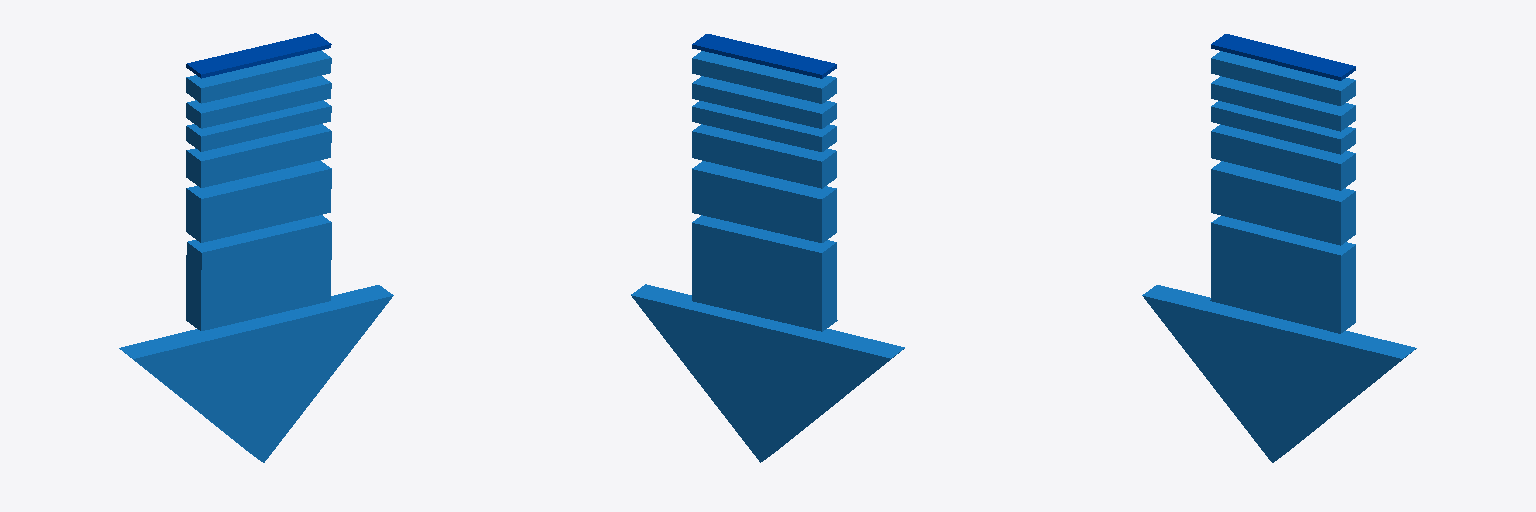
The model's file is arrow.obj.
The picture shows the model from 3 angles: view 1: azimuth 30°, elevation 25°; view 2: azimuth 150°, elevation 25°; view 3: azimuth 330°, elevation 25°; orthographic projection.
Visible parts, largest first — view 1: Box1, Box, Box2, Box3, Box6, Box5, Box4, Box7; view 2: Box1, Box, Box2, Box3, Box5, Box6, Box4, Box7; view 3: Box1, Box, Box2, Box3, Box6, Box5, Box4, Box7.
Boxes of the visible parts, box(x1,y1,x2,y2) form: Box1: box(119, 285, 393, 462); Box: box(186, 215, 331, 330); Box2: box(186, 160, 331, 242); Box3: box(186, 124, 331, 187); Box6: box(186, 50, 331, 103); Box5: box(186, 76, 331, 128); Box4: box(186, 100, 331, 151); Box7: box(186, 33, 331, 78); Box1: box(631, 284, 904, 462); Box: box(692, 215, 837, 331); Box2: box(692, 161, 836, 242); Box3: box(692, 124, 836, 188); Box5: box(692, 76, 836, 128); Box6: box(692, 51, 836, 103); Box4: box(692, 101, 836, 151); Box7: box(692, 34, 836, 78); Box1: box(1142, 285, 1416, 462); Box: box(1210, 216, 1355, 333); Box2: box(1211, 161, 1355, 245); Box3: box(1211, 124, 1355, 190); Box6: box(1211, 51, 1355, 105); Box5: box(1211, 76, 1355, 131); Box4: box(1211, 101, 1355, 154); Box7: box(1211, 34, 1355, 80).
Bounding box in the file's own units: 1 × 1.48 × 0.1035.